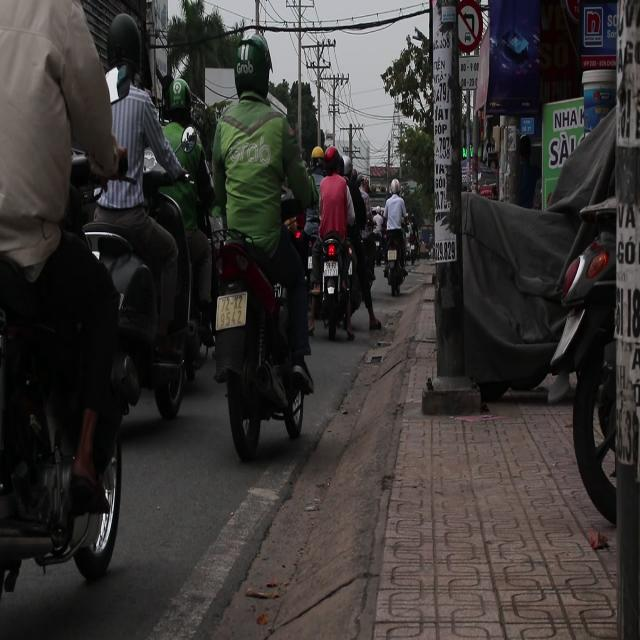motorbike: (0, 219, 128, 584), (209, 224, 312, 459), (320, 228, 351, 346), (385, 235, 407, 295)
